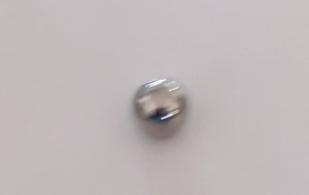steelball: (125, 73, 191, 140)
